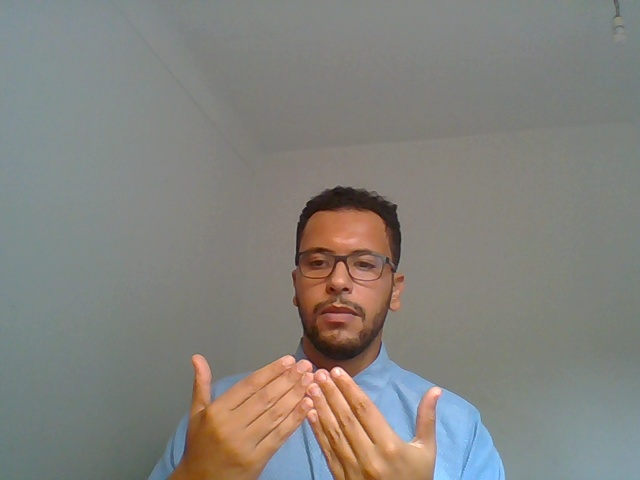thanks: (151, 338, 467, 480)
